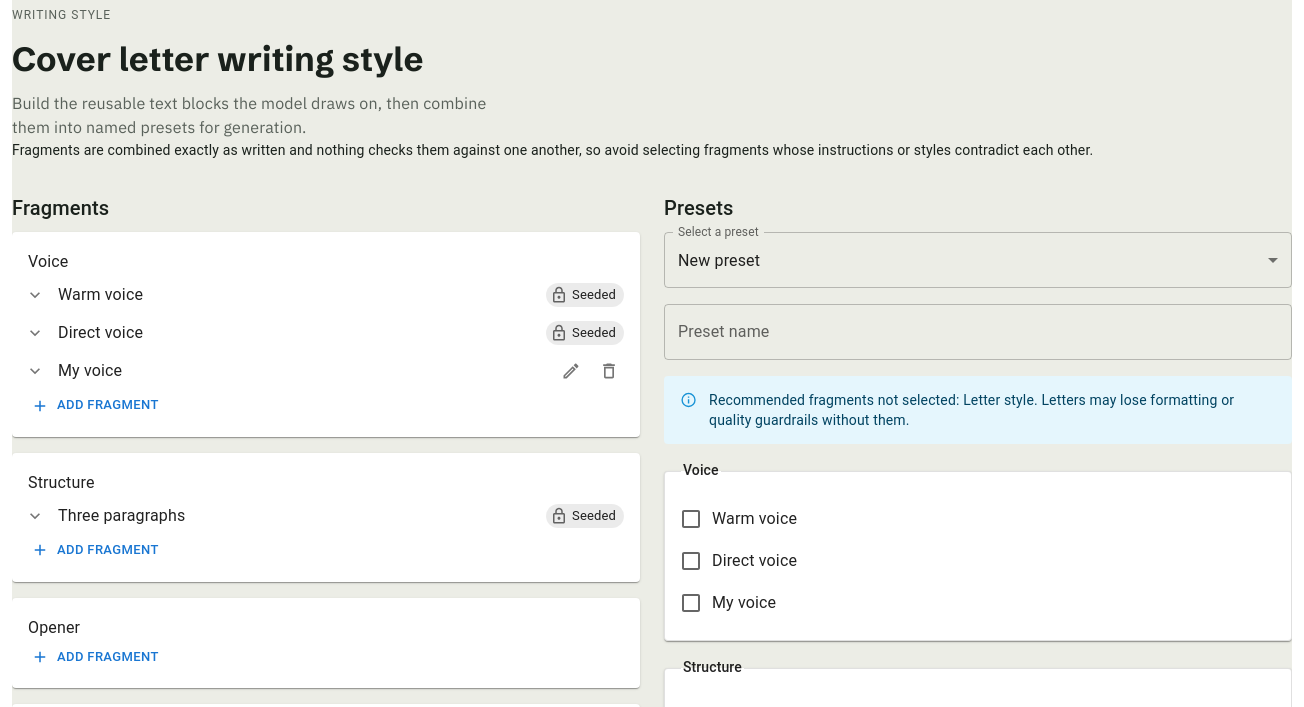
it: WritingStylePage › expands fragment text when the expand button is clicked
The image size is (1304, 707).
expect the 1st text "Warm voice" is shown: met, box [58, 285, 143, 304]
expect the text "Be warm." is not shown: met
Click the expand button for "Warm voice"
Click the button named "Show text for Warm voice": (35, 295) [20, 280, 50, 310]
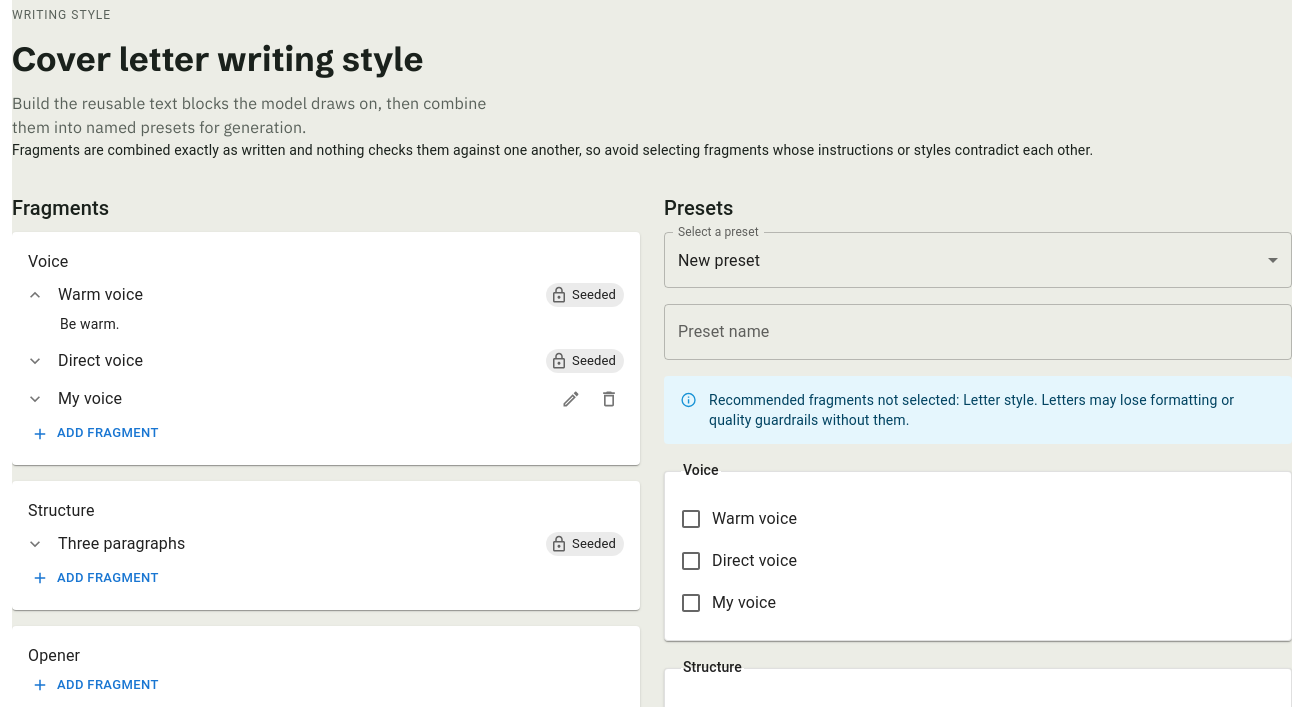
expect the text "Be warm." is shown: met, box [60, 316, 120, 332]
